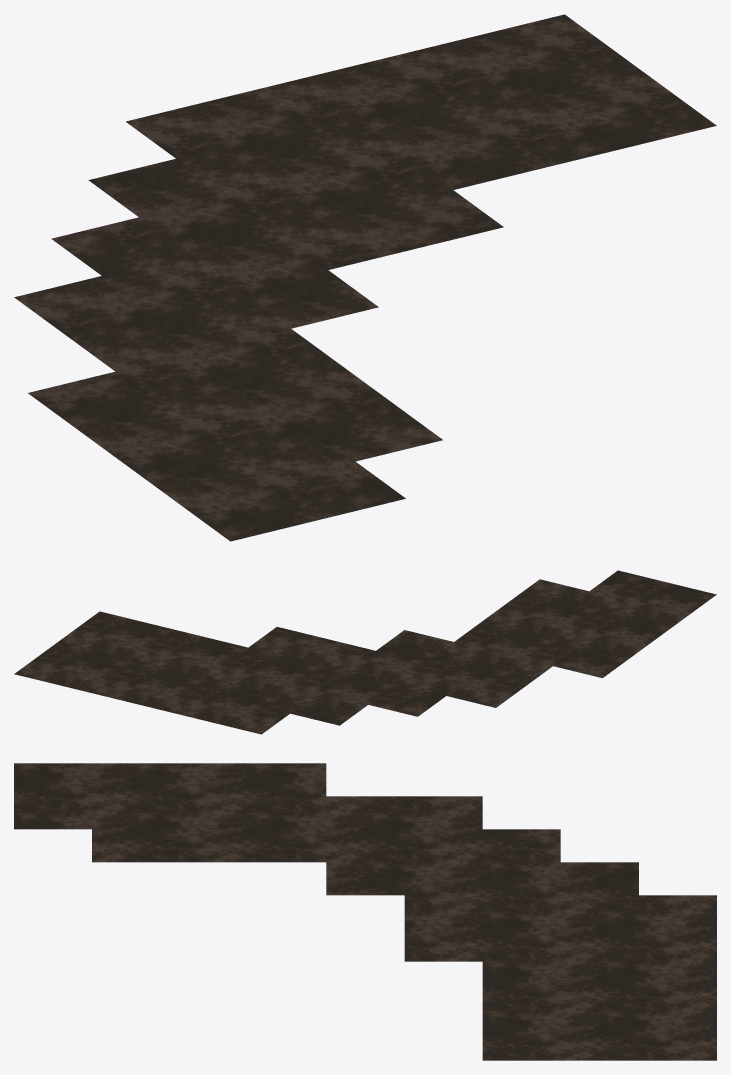
File: floor_-1_-13.glb
3 views of the same model, one above another, from view 1: azimuth 30°, elevation 25°; view 2: azimuth 150°, elevation 25°; view 3: azimuth 270°, elevation 25° (orthographic). The views are drawn at different scales.
Parts seen in each view (by area): view 1: floor_-1_-13; view 2: floor_-1_-13; view 3: floor_-1_-13.
Part boxes in pixels (x1,y1,x2,y2): floor_-1_-13: (14, 14, 716, 541); floor_-1_-13: (14, 570, 716, 734); floor_-1_-13: (14, 763, 716, 1060).
Size of the model in its own units: 36 by 0 by 36.
Materials: 1 (1 with a texture image).
